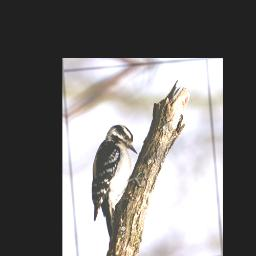Woodpecker: (81, 115, 146, 242)
